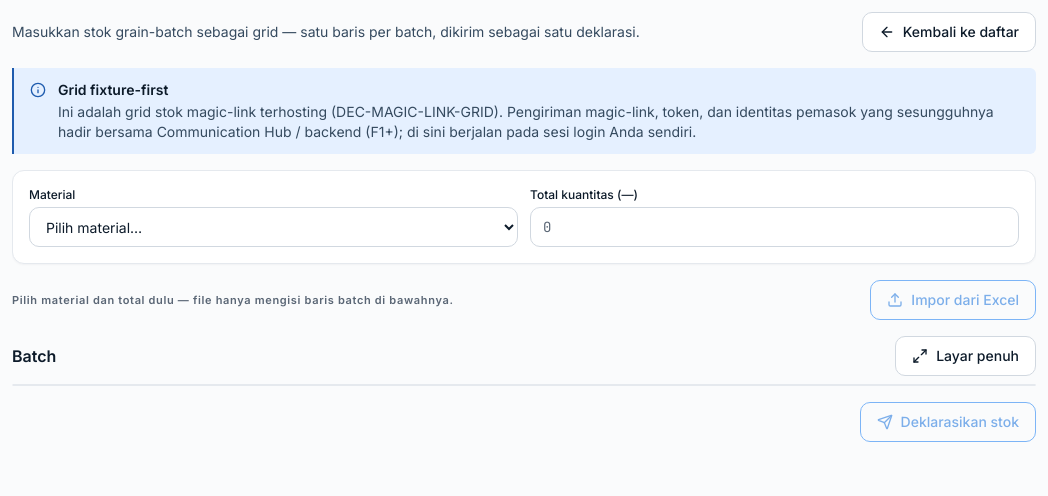
BulkStockEntryGrid — the Σ banner reads the ONE parse (CP-0 · 2d) › refuses in Indonesian too
Select "PK-PETB-8810 — PET Bottle 250ml (PCS)" in the dropdown with id "sdcsup-bulk-material": (274, 227) [29, 207, 518, 247]
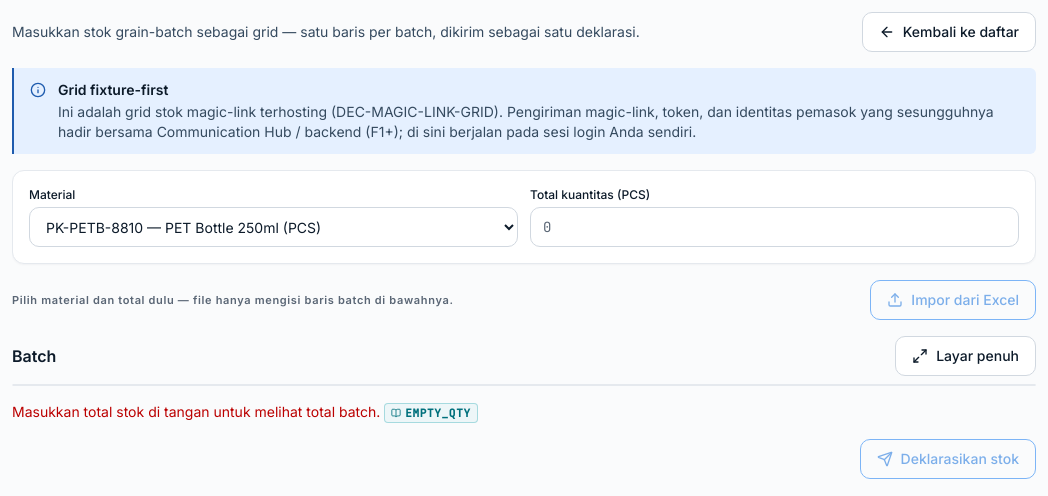
In the field with id "sdcsup-bulk-total": (774, 227) [530, 207, 1019, 247], type "4.000"
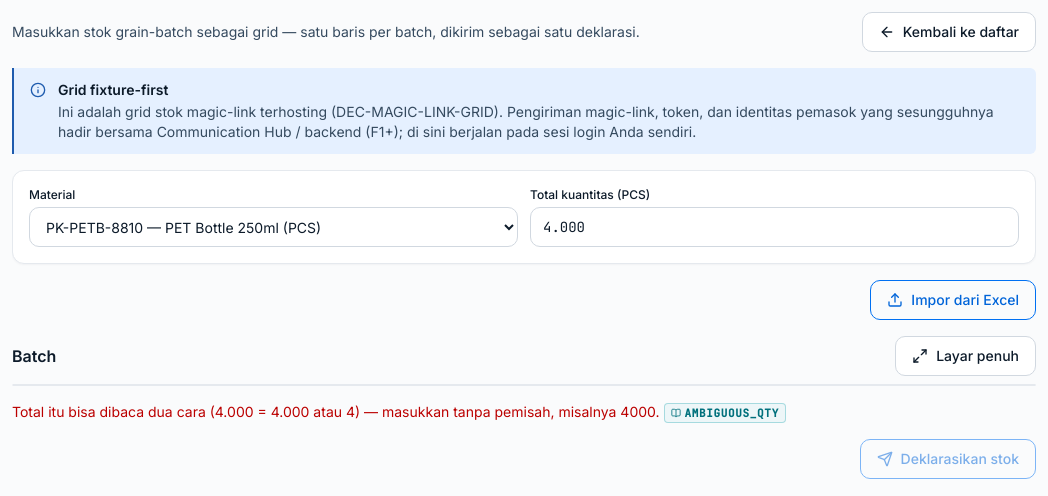
expect the element with test id "sdcsup-bulk-summary" shows "dibaca dua cara": met, box [12, 403, 660, 420]
